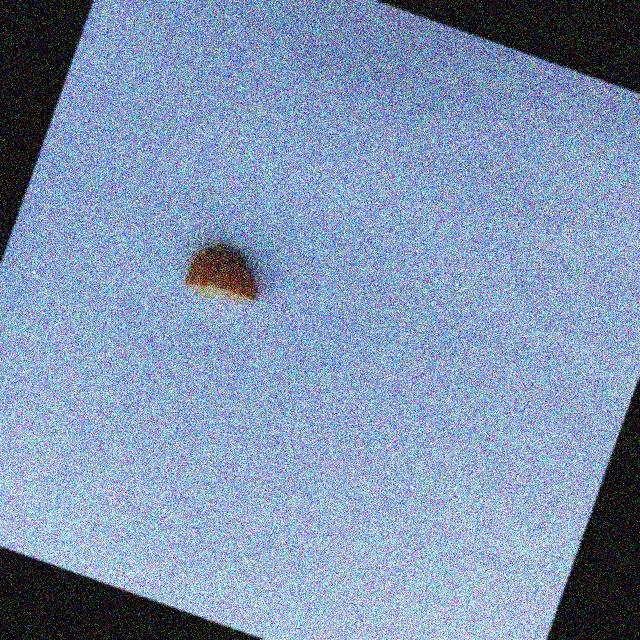grade4: (174, 231, 280, 321)
